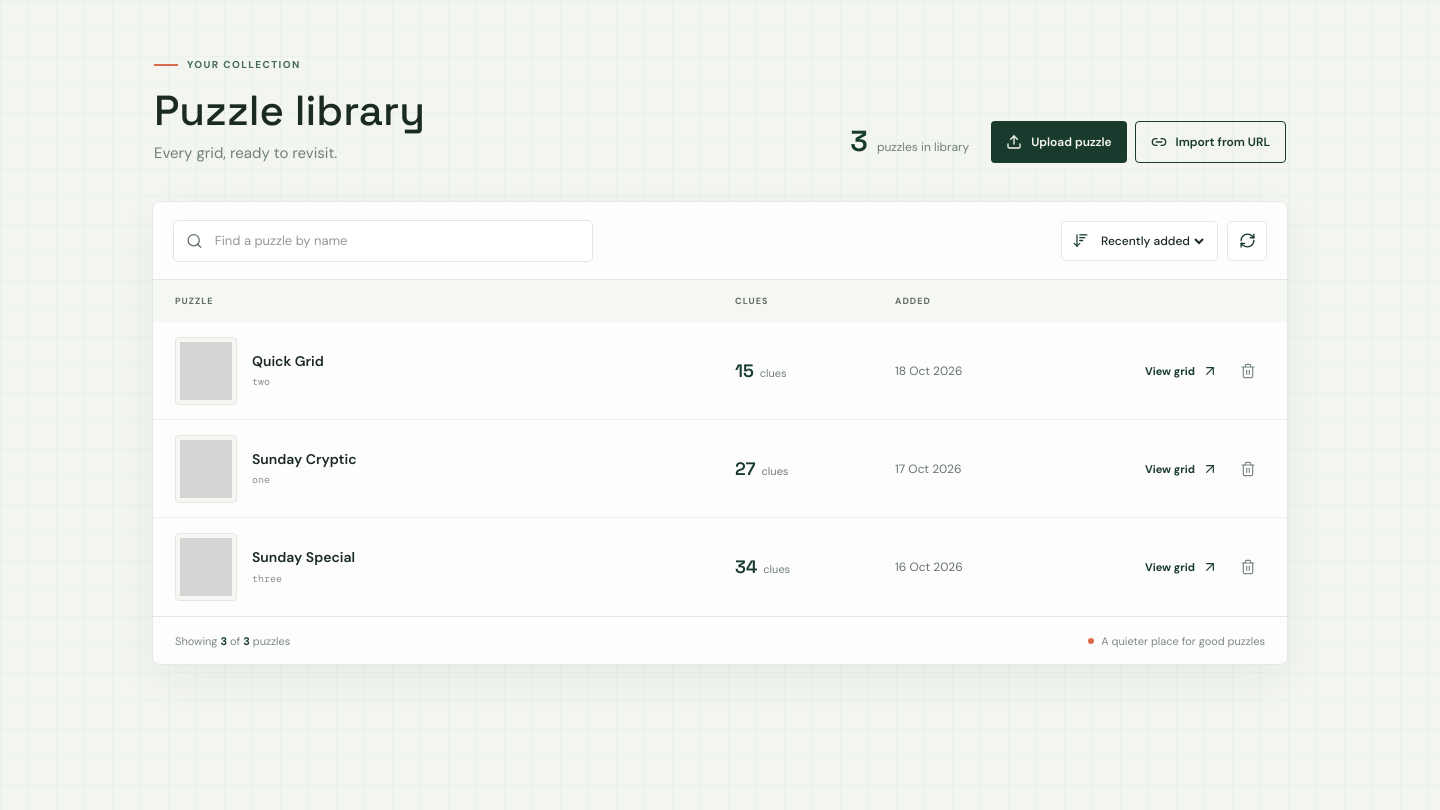
Test: sorts puzzles by clue count
Select "Most clues" in the dropdown named "Sort puzzles" at (1152, 240), box [1097,232,1207,250]
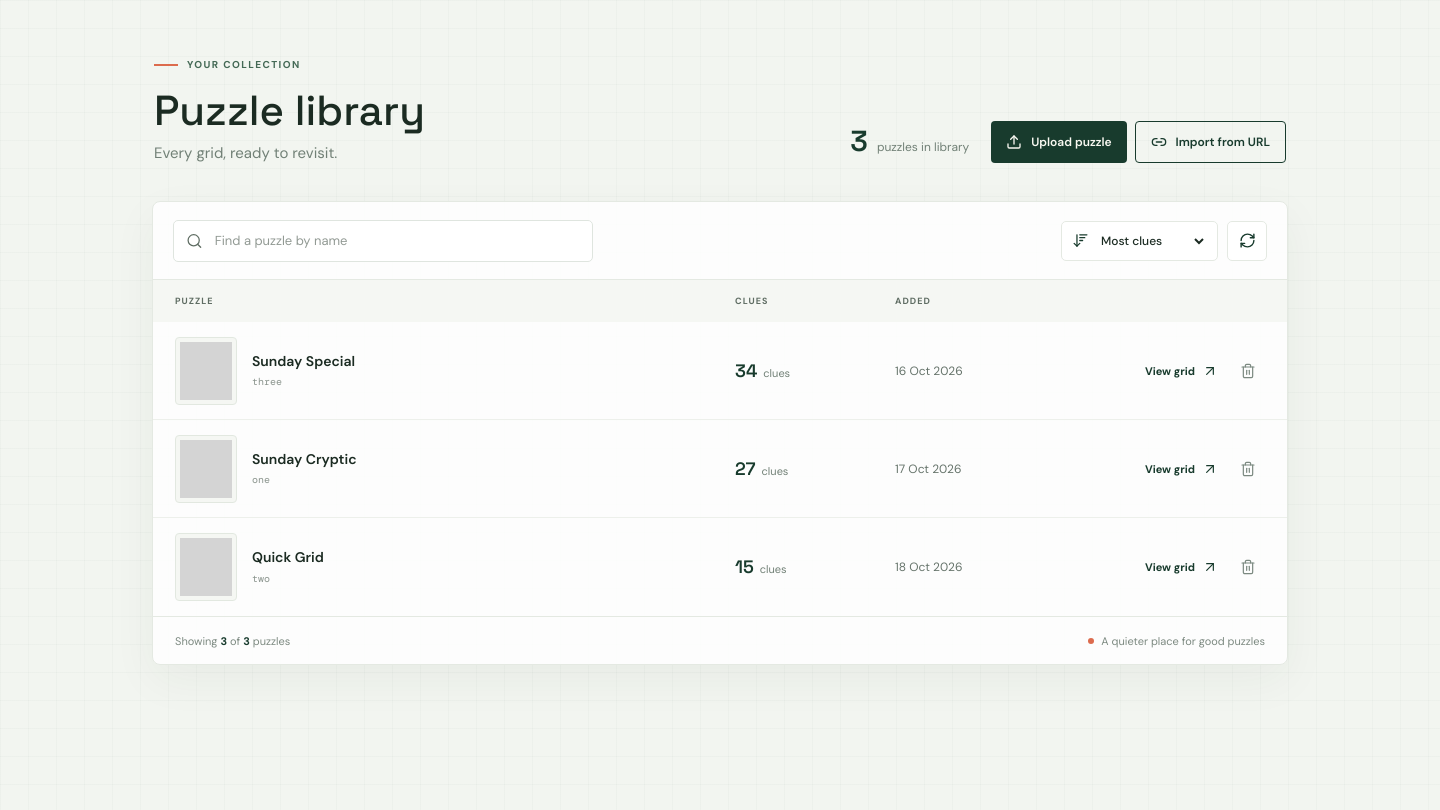
Check: the headings read "Sunday Special", "Sunday Cryptic", "Quick Grid", in this order, box [252,352,355,370]; [252,450,357,468]; [252,548,324,567]
